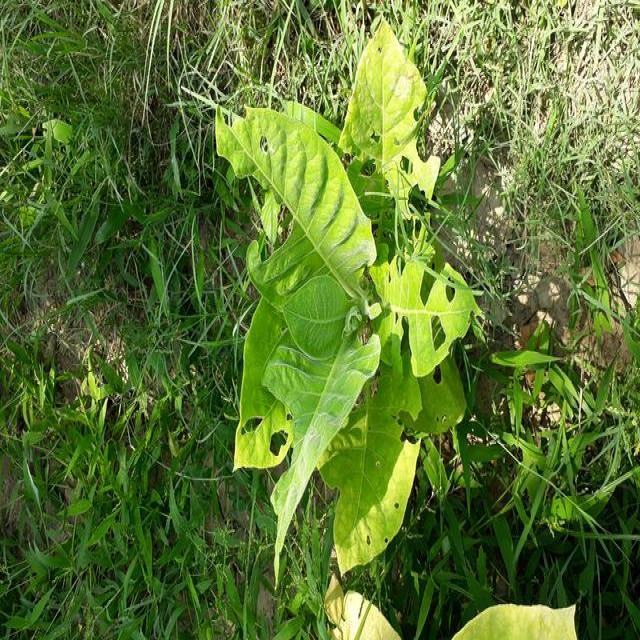crop: (218, 25, 470, 552)
